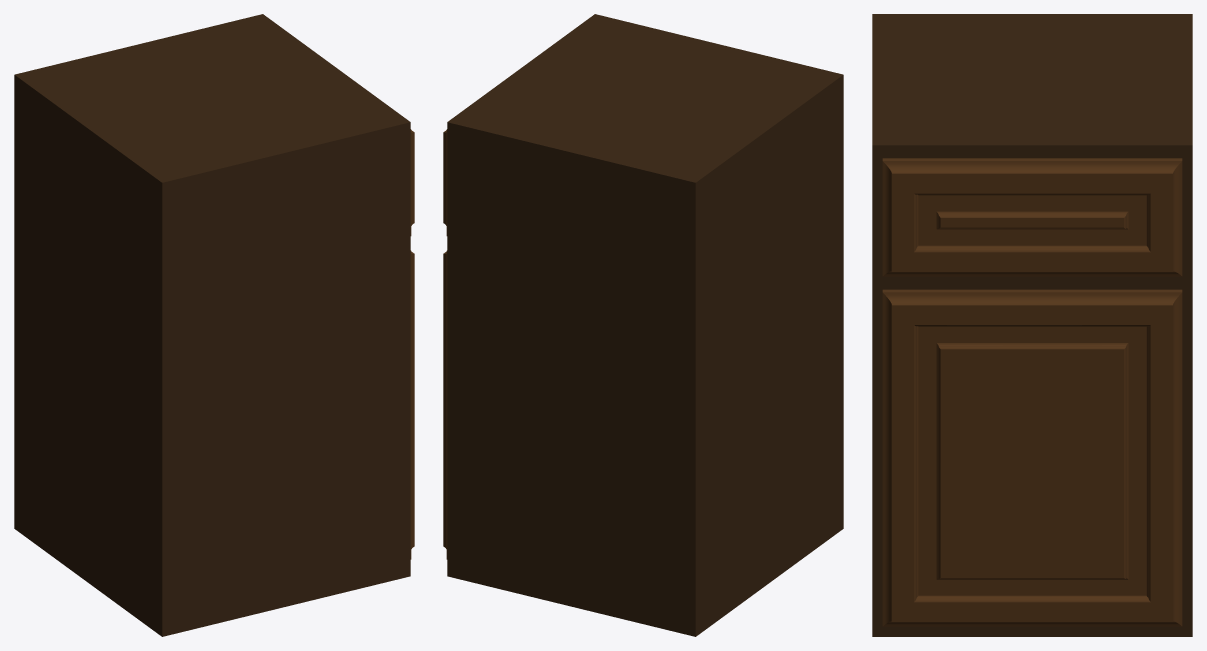
The model's file is Cabinet.glb.
3 renders of one model, left to right at view 1: azimuth 30°, elevation 25°; view 2: azimuth 150°, elevation 25°; view 3: azimuth 270°, elevation 25°, orthographic. The views are drawn at different scales.
Visible parts, largest first — view 1: cabinet, cabinet_door; view 2: cabinet, cabinet_door; view 3: cabinet_door, cabinet, cabinet_drawer.
Part boxes in pixels (left/top/right/bottom): cabinet: left=14, top=14, right=410, bottom=636; cabinet_door: left=410, top=250, right=414, bottom=559; cabinet: left=447, top=14, right=843, bottom=636; cabinet_door: left=443, top=250, right=447, bottom=559; cabinet_door: left=882, top=289, right=1182, bottom=626; cabinet: left=872, top=14, right=1192, bottom=636; cabinet_drawer: left=882, top=158, right=1182, bottom=276.
Size of the model in its own units: 3.23 by 5.37 by 3.17.
